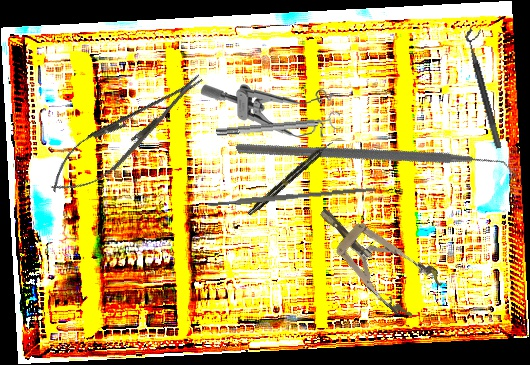Chopper: (234, 32, 520, 295)
Fixation Ring: (463, 25, 512, 150), (215, 110, 342, 142)
Handpiece: (246, 138, 335, 218)
Needle Holder: (39, 60, 215, 208)
Scalpel Handle: (208, 185, 376, 208)
Speculum: (303, 188, 447, 324), (201, 79, 336, 143)
